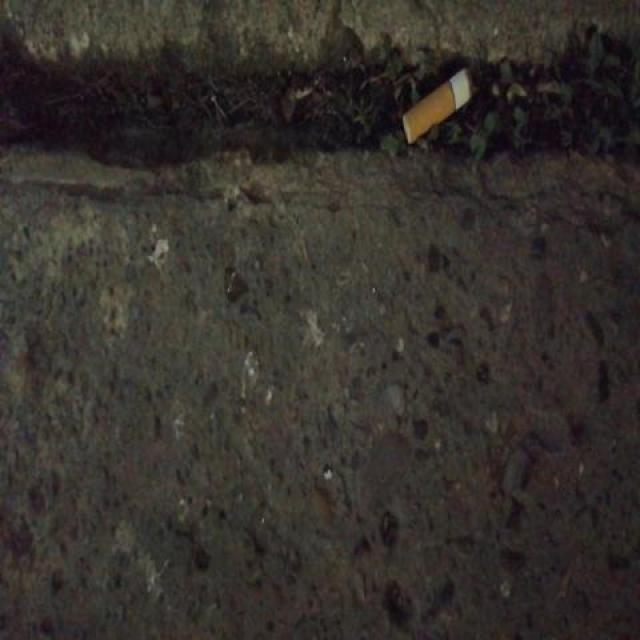non-organic waste: (397, 63, 483, 148)
